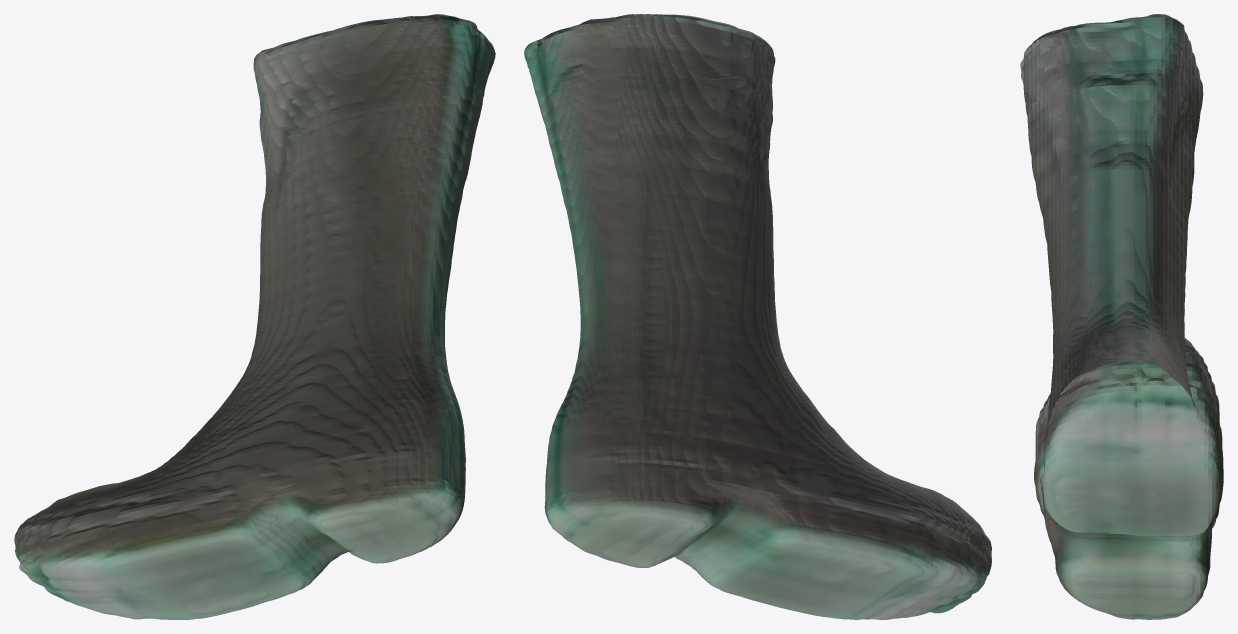
3 renders of one model, left to right at view 1: azimuth 30°, elevation 25°; view 2: azimuth 150°, elevation 25°; view 3: azimuth 270°, elevation 25°, orthographic. The views are drawn at different scales.
Visible parts, largest first — view 1: geometry_0; view 2: geometry_0; view 3: geometry_0.
Boxes of the visible parts, bbox=[...] form: geometry_0: bbox=[14, 14, 495, 619]; geometry_0: bbox=[524, 14, 991, 619]; geometry_0: bbox=[1020, 14, 1223, 619].
Bounding box in the file's own units: 1.52 × 1.6 × 0.5623.
